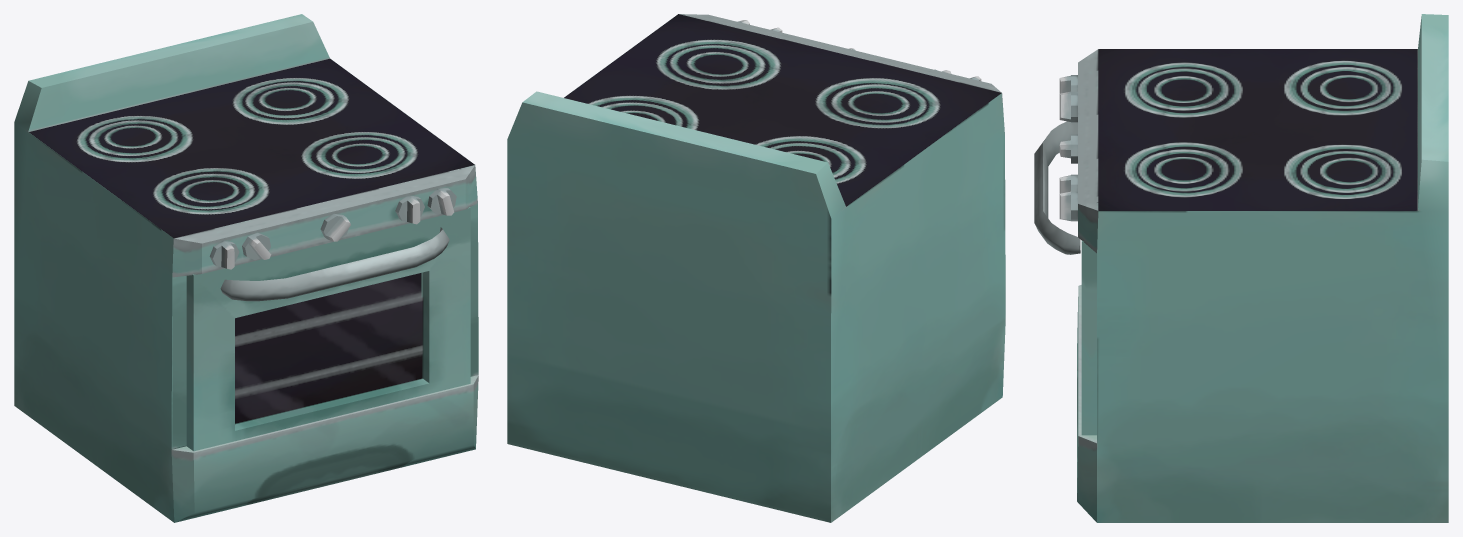
The model's file is Oven_Cmillman.fbx.
The picture shows the model from 3 angles, left to right: view 1: azimuth 30°, elevation 25°; view 2: azimuth 150°, elevation 25°; view 3: azimuth 270°, elevation 25°; orthographic projection. The views are drawn at different scales.
Parts seen in each view (by area): view 1: Oven1; view 2: Oven1; view 3: Oven1.
Part boxes in pixels (<box>): Oven1: <box>14,14,478,522</box>; Oven1: <box>507,14,1005,522</box>; Oven1: <box>1034,14,1448,522</box>.
Bounding box in the file's own units: 2.5 × 2.51 × 2.66.
Materials: 1 (1 with a texture image).
